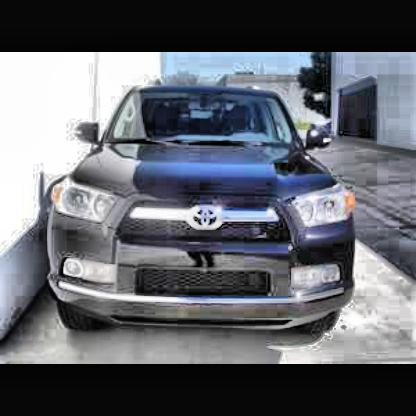Toyota 4Runner SUV 2012: (53, 86, 360, 346)
